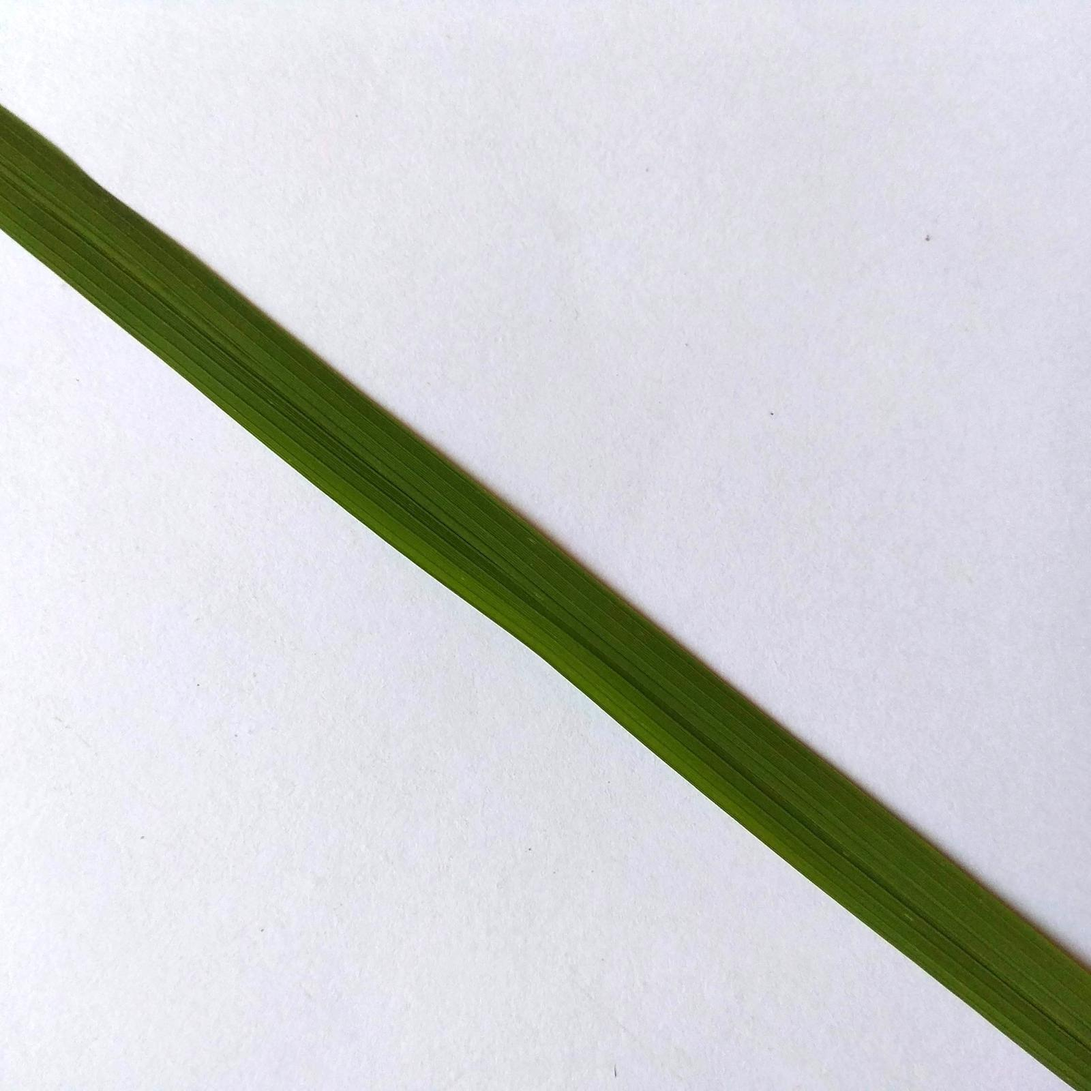Healthy: (0, 106, 1090, 1090)
